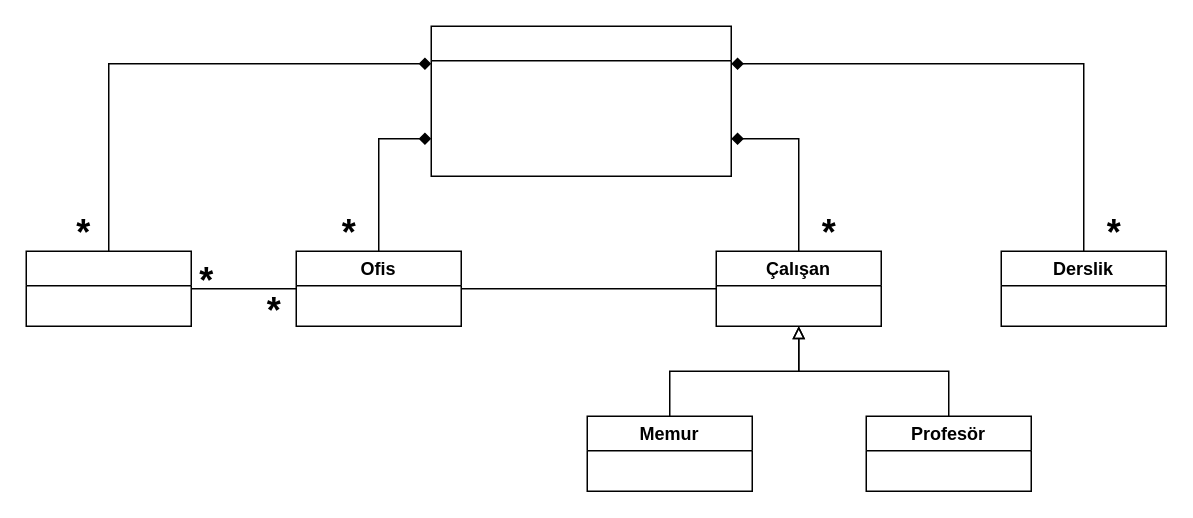
The diagram is 1193 pixels wide and 518 high, and some of its shapes have lost their labels. The box of each missing label's shape, as (x1, y1, x2, y2) in pixels:
Departman: (25, 250, 191, 326)
Üniversite: (430, 25, 731, 176)
